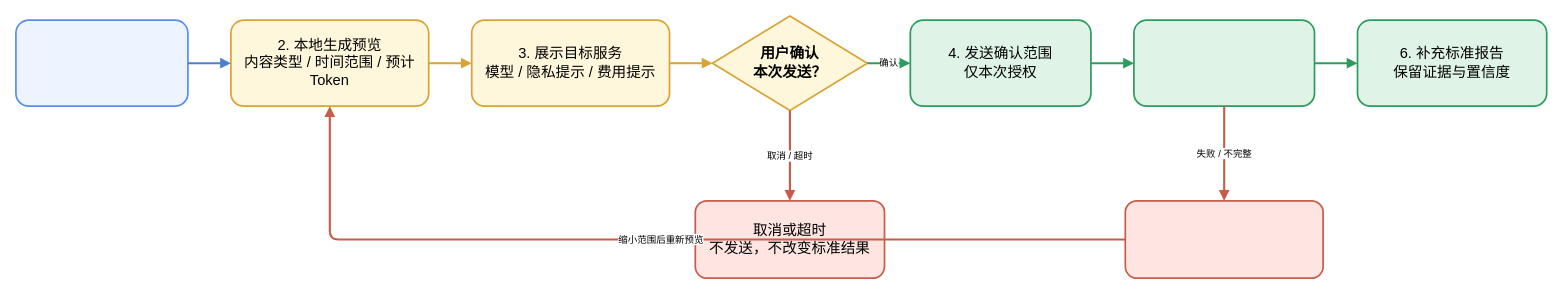
This 1562x293 diagram has some shape labels left out. Here are the shapes that lost their labels. From the top down, the centre of each, then its label:
point (101, 63): 1. 用户选择范围 日期 / 任务 / 会话
point (1224, 63): 5. 返回并校验结果 保存本地分析版本
point (1224, 239): 失败或结果不完整 保留标准结果，可缩小范围或重试
